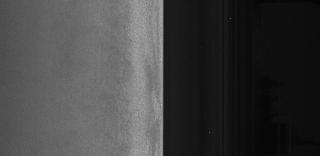silk spot: (108, 41, 130, 105)
